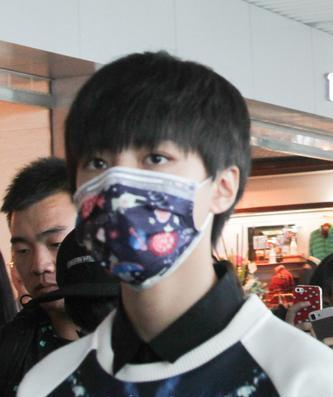NONE: (11, 225, 87, 308)
OK: (79, 129, 227, 277)
